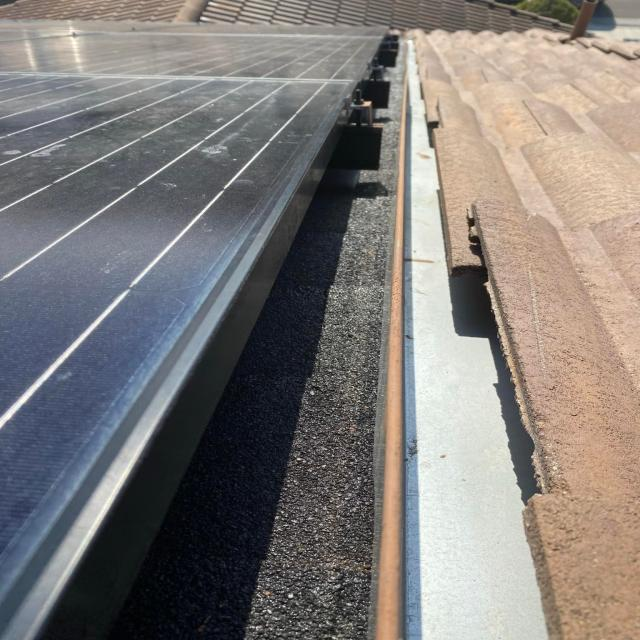dust-solar-panel: (0, 65, 360, 633)
